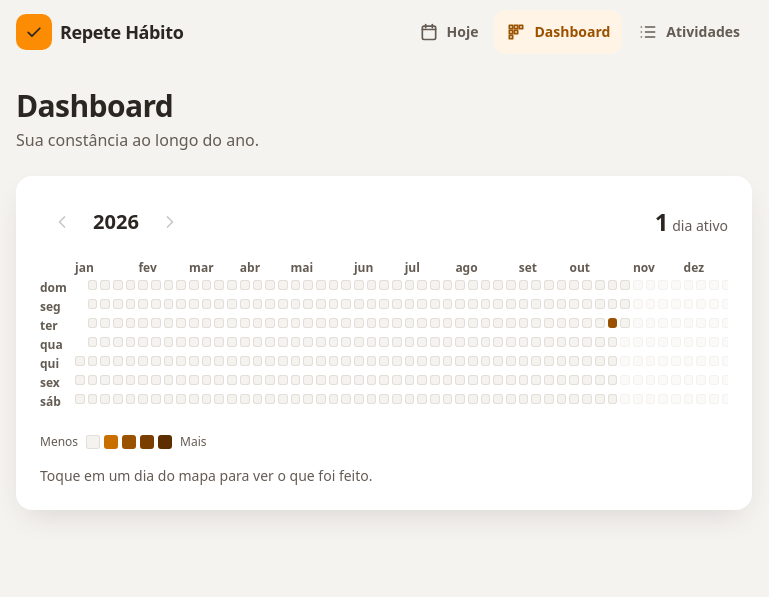
Scenario: DashboardView › TI-09: clicar em uma célula mostra o detalhe do dia com link para registrar nele
The width and height of the screenshot is (769, 597).
Click the button named "20 de outubro" at (612, 323), box top-left (608, 318), bottom-right (617, 328)
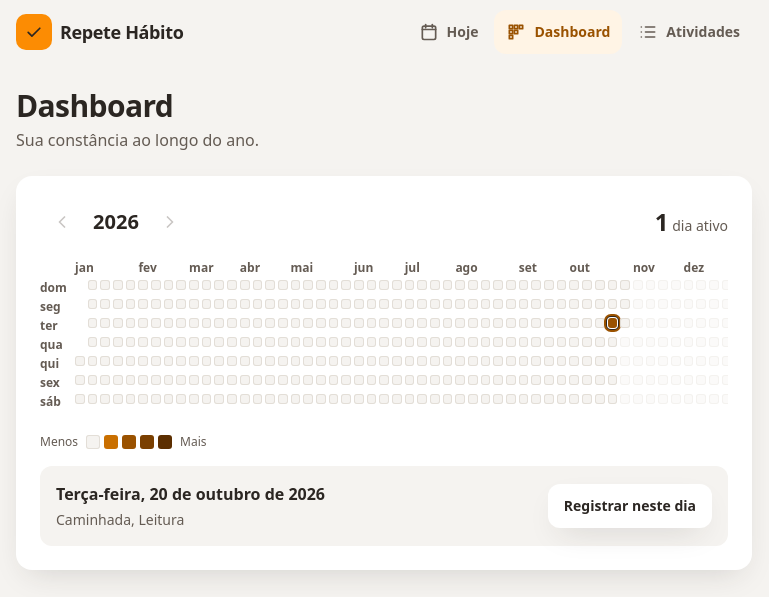
Now the element named "Detalhes do dia" shows "terça-feira, 20 de outubro de 2026", box top-left (56, 483), bottom-right (325, 505)
Now the element named "Detalhes do dia" shows "Caminhada, Leitura", box top-left (56, 510), bottom-right (184, 529)
Click the link "Registrar neste dia" at (630, 506), box top-left (548, 484), bottom-right (712, 528)
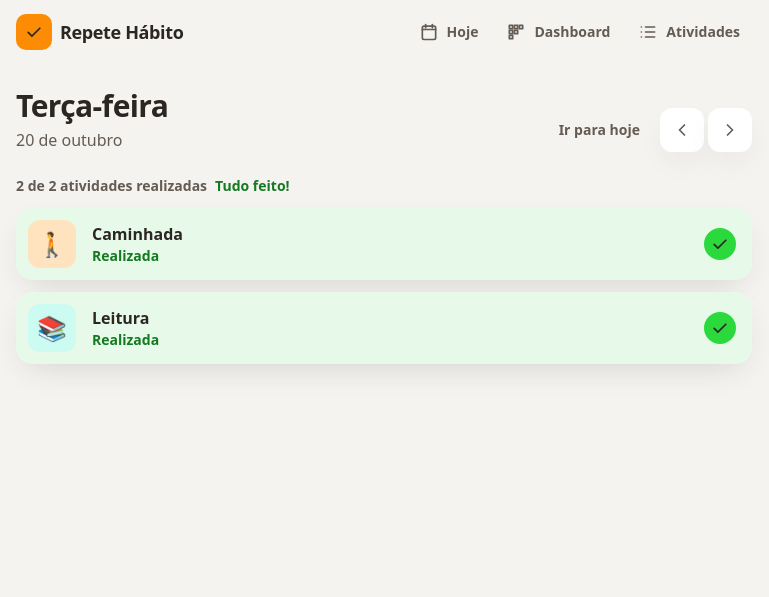
Now the button named "Caminhada realizada em 20 de outubro" is shown, box top-left (16, 208), bottom-right (752, 280)
